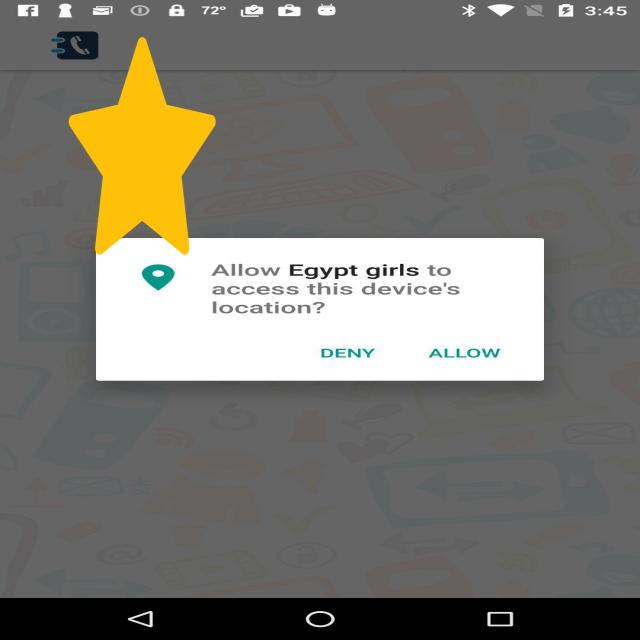forced continuity: (68, 37, 215, 255)
